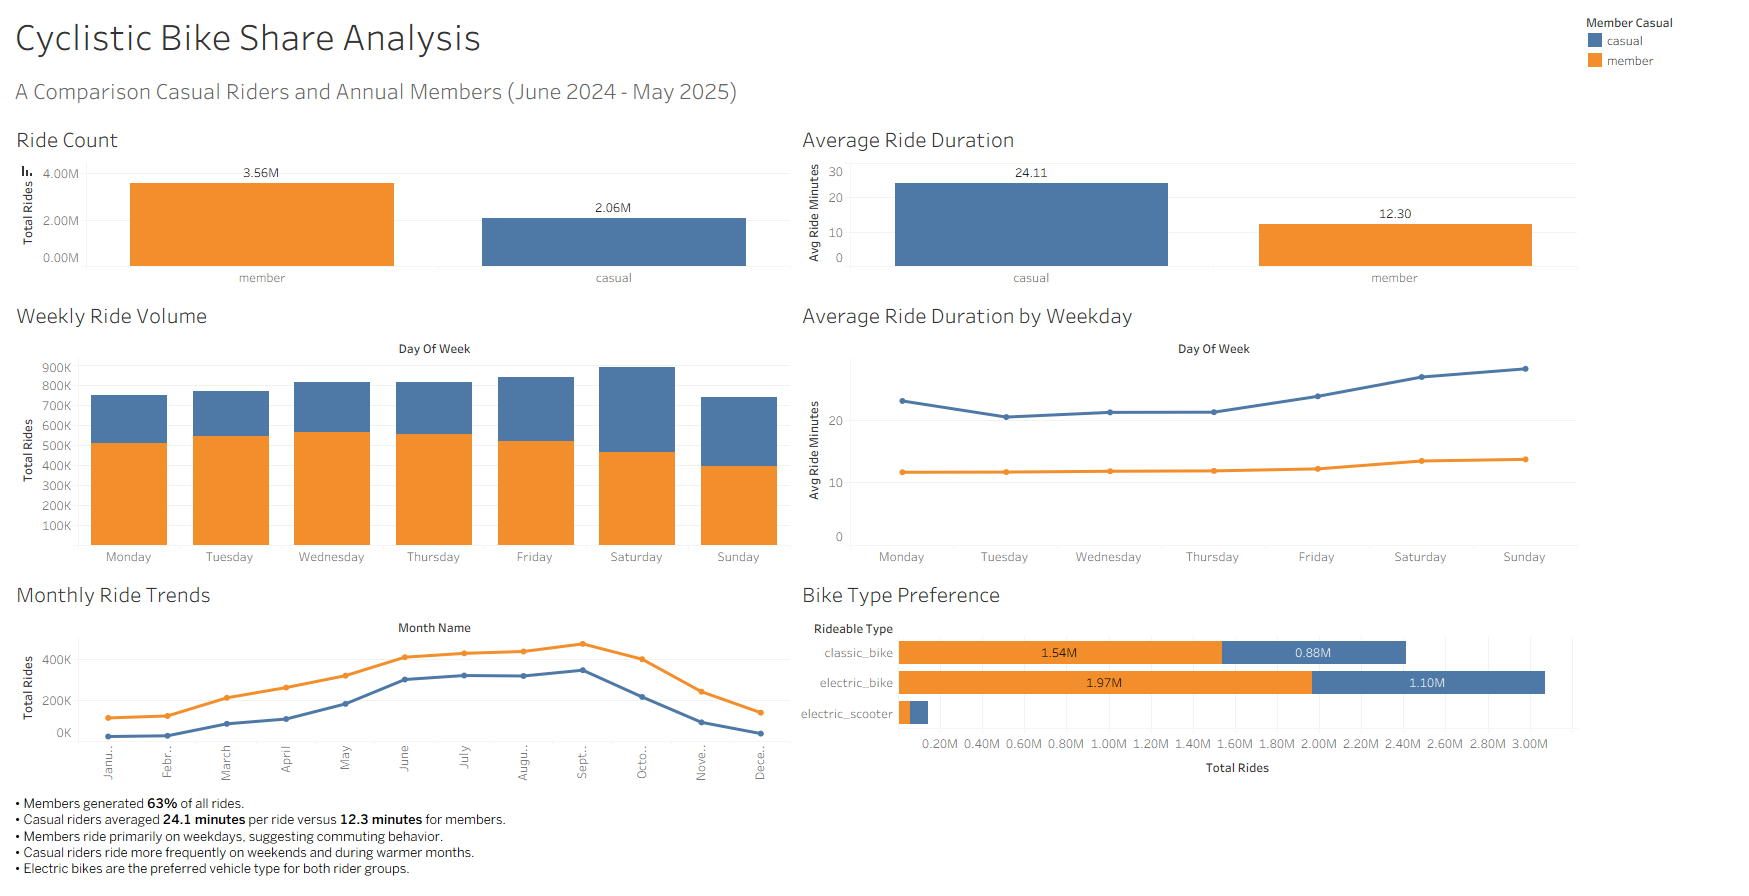

This screenshot's page, from the dashboard's own definition file:
{"tool":"tableau","page":{"name":"Dashboard 1","canvas":[1000,1000],"units":"permille","ordinal":0},"visuals":[{"type":"title","box":[4.6,8.9,899.4,63.6]},{"type":"legend","title":"Ride Count by Rider Type","param":"[federated.0fy2y2z1abcios1g6i6rt0r4506p].[none:member_casual:nk]","box":[904,8.9,91.5,73.7]},{"type":"text","box":[4.6,72.5,899.4,55.8]},{"type":"worksheet","title":"Ride Count by Rider Type","mark":"Bar","rows":["total_rides"],"cols":["member_casual"],"box":[4.6,128.4,449.7,196.9]},{"type":"worksheet","title":"Average Ride Duration","mark":"Bar","rows":["avg_ride_minutes"],"cols":["member_casual"],"box":[454.2,128.4,449.7,196.9]},{"type":"worksheet","title":"Ride Volume by Day of Week","mark":"Bar","rows":["total_rides"],"cols":["day_of_week"],"box":[4.6,325.3,449.7,311.3]},{"type":"worksheet","title":"Average Ride Duration by Day of Week","mark":"Line","rows":["avg_ride_minutes"],"cols":["day_of_week"],"box":[454.2,325.3,449.7,311.3]},{"type":"worksheet","title":"Monthly Ride Trends","mark":"Line","rows":["total_rides"],"cols":["month_name"],"box":[4.6,636.6,449.7,241.8]},{"type":"worksheet","title":"Bike Type Preference by Rider Type","mark":"Bar","rows":["rideable_type"],"cols":["total_rides"],"box":[454.2,636.6,449.7,241.8]},{"type":"text","box":[4.6,878.4,990.9,112.7]}]}

Visuals, with their boxes on the dashboard's canvas, which has no fixed pixel size, in thousandths of its width and height (x1, y1, x2, y2). These are canvas units, not pixel positions in the 1749x896 screenshot, which may show the page scaled, cropped or inside an application window:
title: box(5, 9, 904, 72)
"Ride Count by Rider Type" legend: box(904, 9, 996, 83)
text: box(5, 72, 904, 128)
"Ride Count by Rider Type" worksheet (Bar marks): box(5, 128, 454, 325)
"Average Ride Duration" worksheet (Bar marks): box(454, 128, 904, 325)
"Ride Volume by Day of Week" worksheet (Bar marks): box(5, 325, 454, 637)
"Average Ride Duration by Day of Week" worksheet (Line marks): box(454, 325, 904, 637)
"Monthly Ride Trends" worksheet (Line marks): box(5, 637, 454, 878)
"Bike Type Preference by Rider Type" worksheet (Bar marks): box(454, 637, 904, 878)
text: box(5, 878, 996, 991)
